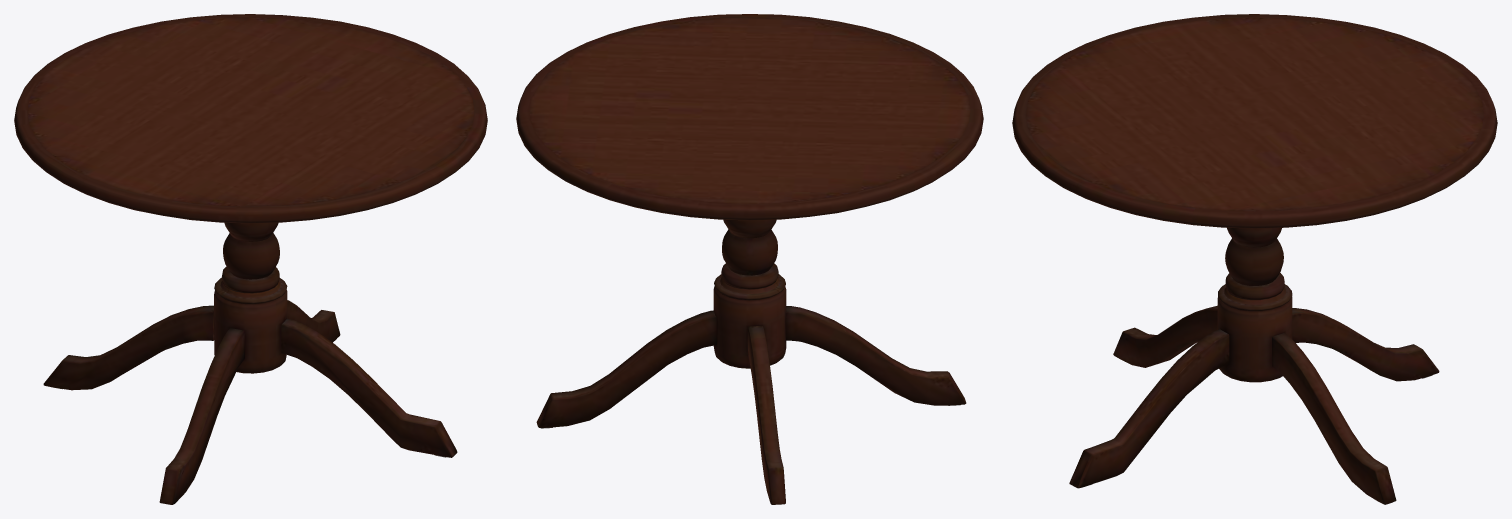
The model's file is bistro_table.glb.
The picture shows the model from 3 angles, left to right: view 1: azimuth 30°, elevation 25°; view 2: azimuth 150°, elevation 25°; view 3: azimuth 270°, elevation 25°; orthographic projection. The views are drawn at different scales.
Parts seen in each view (by area): view 1: round_wooden_table_01; view 2: round_wooden_table_01; view 3: round_wooden_table_01.
Part boxes in pixels (x1,y1,x2,y2): round_wooden_table_01: (14,14,487,504); round_wooden_table_01: (516,14,983,504); round_wooden_table_01: (1012,14,1497,504).
Size of the model in its own units: 1.4 by 1 by 1.4.
Materials: 1 (1 with a texture image).
